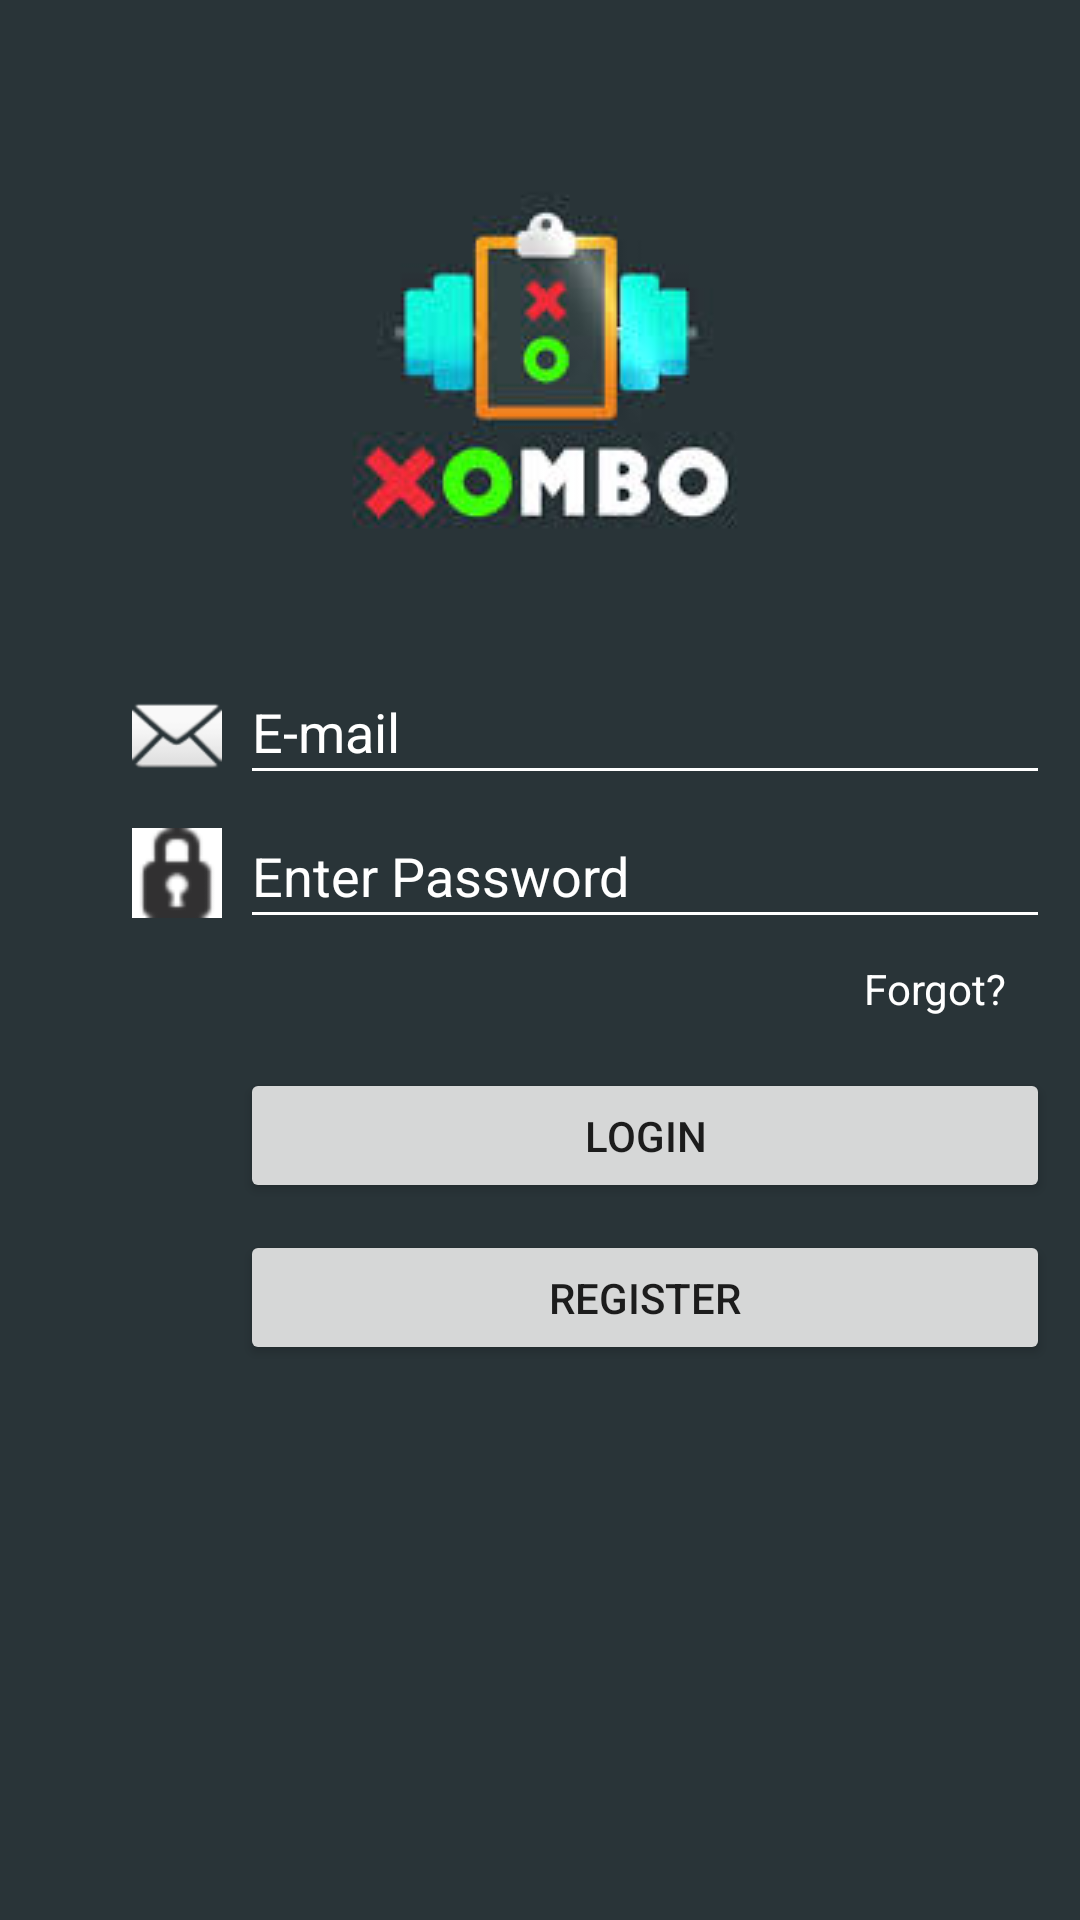

Where to tap for icons on this 1080x1920 app screen, as (x,y):
secure: (177,873)
